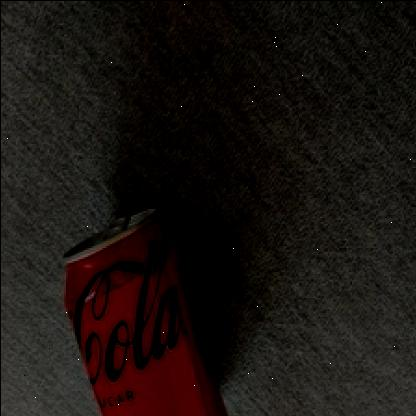Can: (63, 206, 227, 416)
